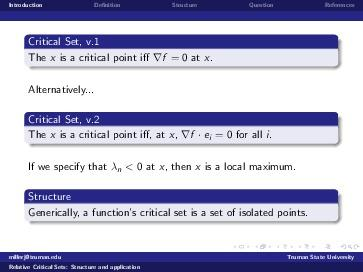subtitle: (24, 29, 135, 51), (23, 111, 106, 127), (22, 186, 79, 205)
